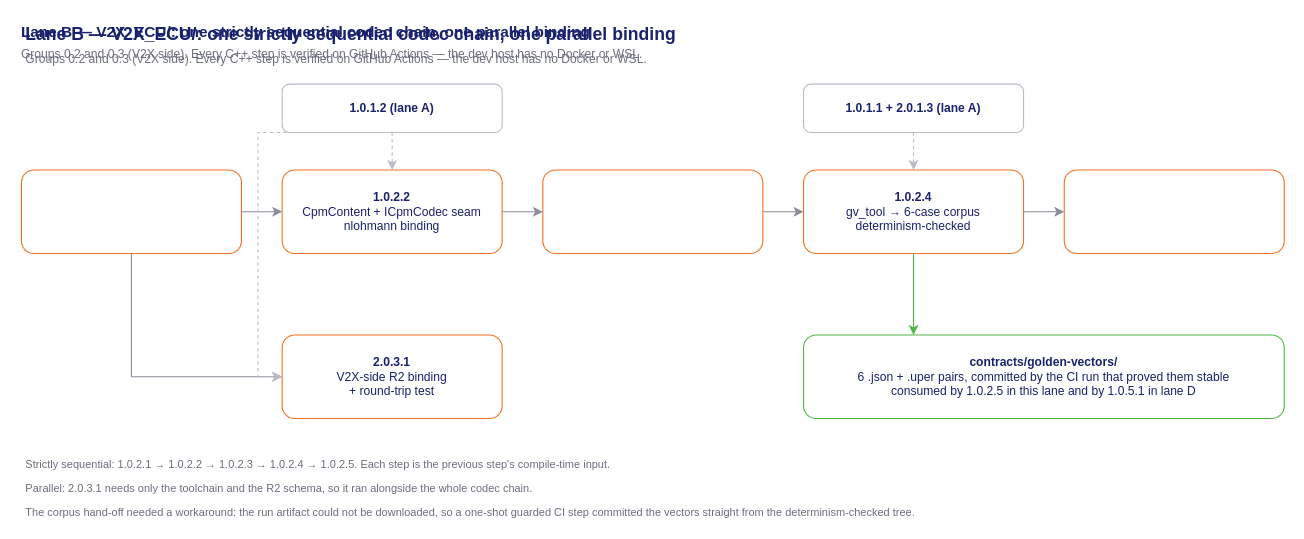
The diagram is 1304 pixels wide and 539 high, and some of its shapes have lost their labels. The box of each missing label's shape, as (x1, y1, x2, y2) in pixels:
1.0.2.1 CMake toolchain pinned Vanetza ASN.1 targets: (20, 169, 241, 254)
1.0.2.3 VanetzaCpmCodec r2::Cpm only, F9 bounds: (542, 169, 763, 254)
1.0.2.5 golden-vector codec test decode == .json, encode == .uper: (1063, 169, 1284, 254)
